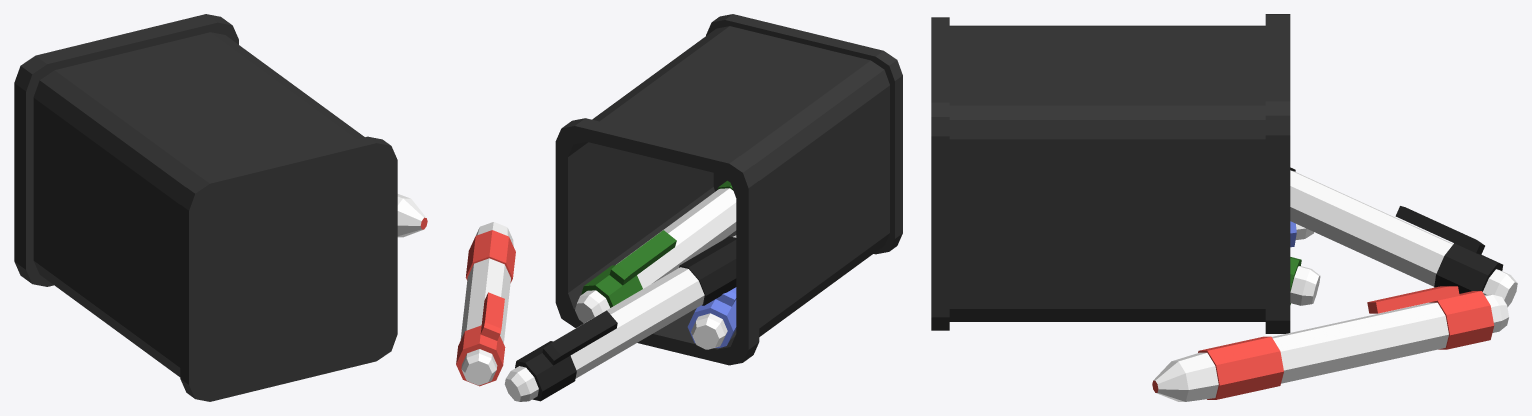
Rendered from PenHolder.fbx.
The picture shows the model from 3 angles, left to right: view 1: azimuth 30°, elevation 25°; view 2: azimuth 150°, elevation 25°; view 3: azimuth 270°, elevation 25°; orthographic projection. The views are drawn at different scales.
Parts seen in each view (by area): view 1: Plane.021, Cylinder.018; view 2: Plane.021, Cylinder.031, Cylinder.019, Cylinder.018, Cylinder.012; view 3: Plane.021, Cylinder.018, Cylinder.031, Cylinder.019.
Part boxes in pixels (x1,y1,x2,y2): Plane.021: (14, 14, 397, 401); Cylinder.018: (397, 194, 427, 237); Plane.021: (555, 14, 902, 365); Cylinder.031: (504, 235, 736, 401); Cylinder.019: (575, 180, 736, 323); Cylinder.018: (456, 222, 515, 386); Cylinder.012: (687, 287, 736, 349); Plane.021: (931, 14, 1290, 333); Cylinder.018: (1152, 286, 1508, 401); Cylinder.031: (1290, 167, 1517, 307); Cylinder.019: (1290, 257, 1320, 305).
Bounding box in the file's own units: 37.93 × 23.01 × 52.69.
